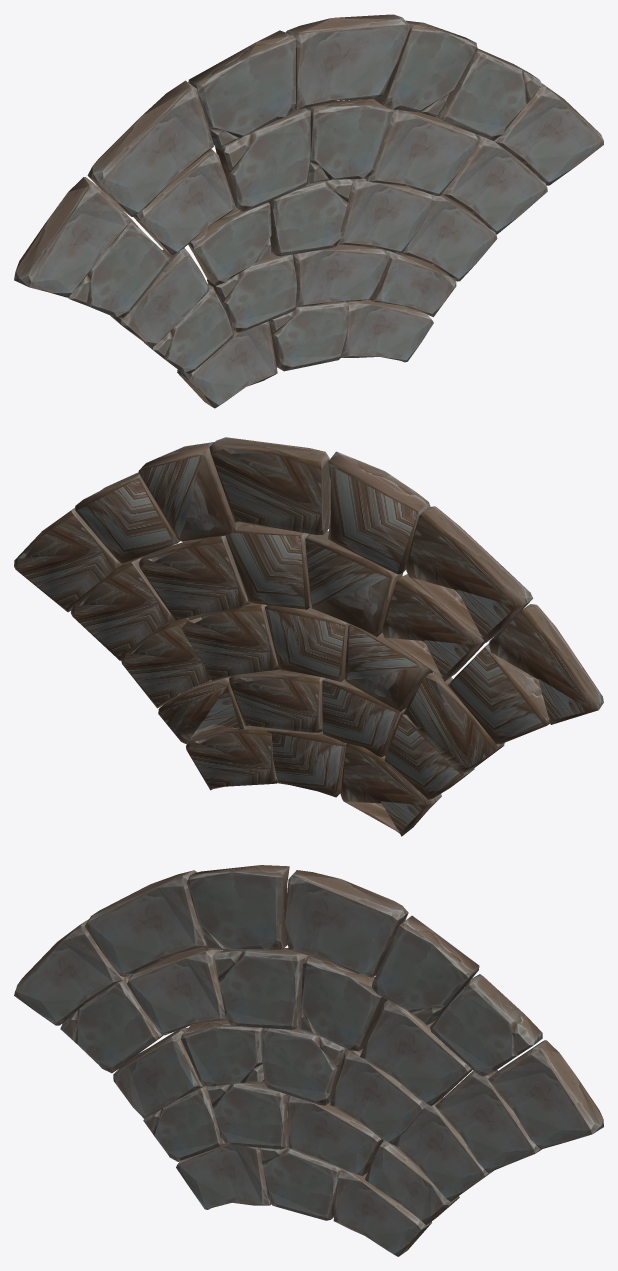
File: Vd_FloorTile_Fan_A.fbx
3 renders of one model, top to bottom at view 1: azimuth 30°, elevation 25°; view 2: azimuth 150°, elevation 25°; view 3: azimuth 330°, elevation 25°, orthographic.
Parts seen in each view (by area): view 1: Vd_FloorTile_Fan_A; view 2: Vd_FloorTile_Fan_A; view 3: Vd_FloorTile_Fan_A.
Boxes of the visible parts, x1,y1,x2,y2 form: Vd_FloorTile_Fan_A: (14, 14, 603, 408); Vd_FloorTile_Fan_A: (14, 437, 603, 836); Vd_FloorTile_Fan_A: (14, 865, 603, 1256).
Bounding box in the file's own units: 1789 × 1047 × 87.05.
